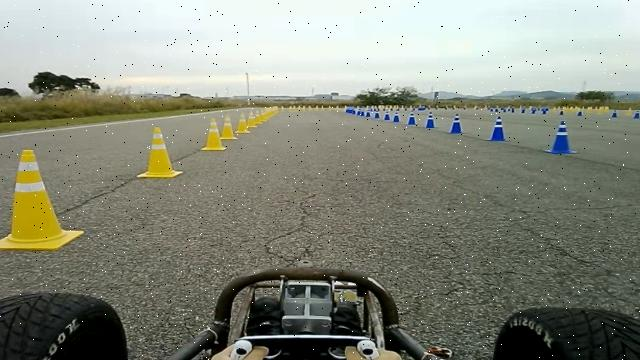blue cone: (544, 120, 579, 154), (486, 116, 511, 142), (448, 112, 466, 134), (426, 111, 438, 128), (407, 110, 418, 125), (392, 110, 401, 122), (384, 110, 392, 121)
yellow cone: (0, 148, 85, 251), (137, 126, 184, 179), (201, 117, 227, 151), (220, 114, 238, 140), (235, 112, 251, 134), (247, 110, 258, 127), (254, 113, 264, 124)
